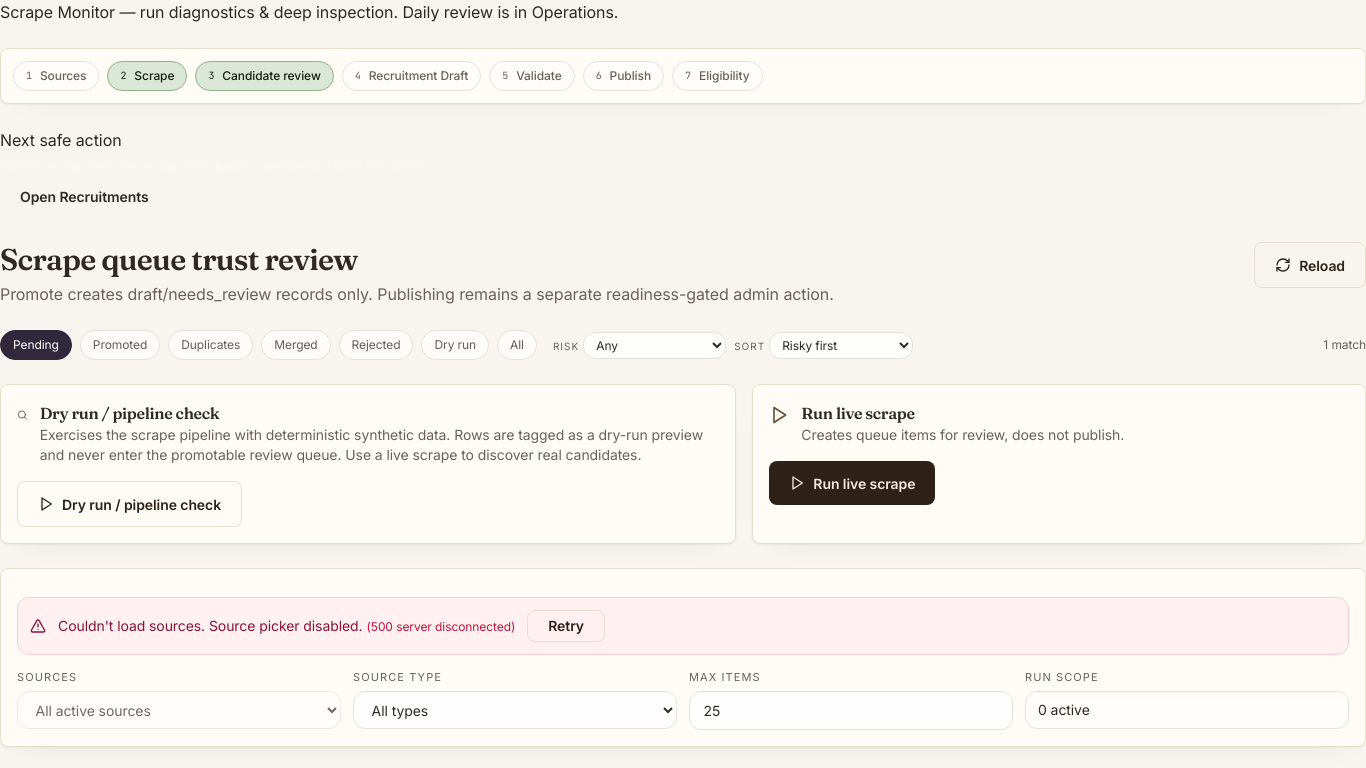
clicking sources Retry refires only /api/admin/sources
Expected: the message "Couldn't load sources. Source picker disabled.(500 server disconnected) Retry" is shown, [17, 597, 1349, 655]
Click the button with test id "scraper-sources-retry" at [566, 626], box [527, 610, 605, 642]
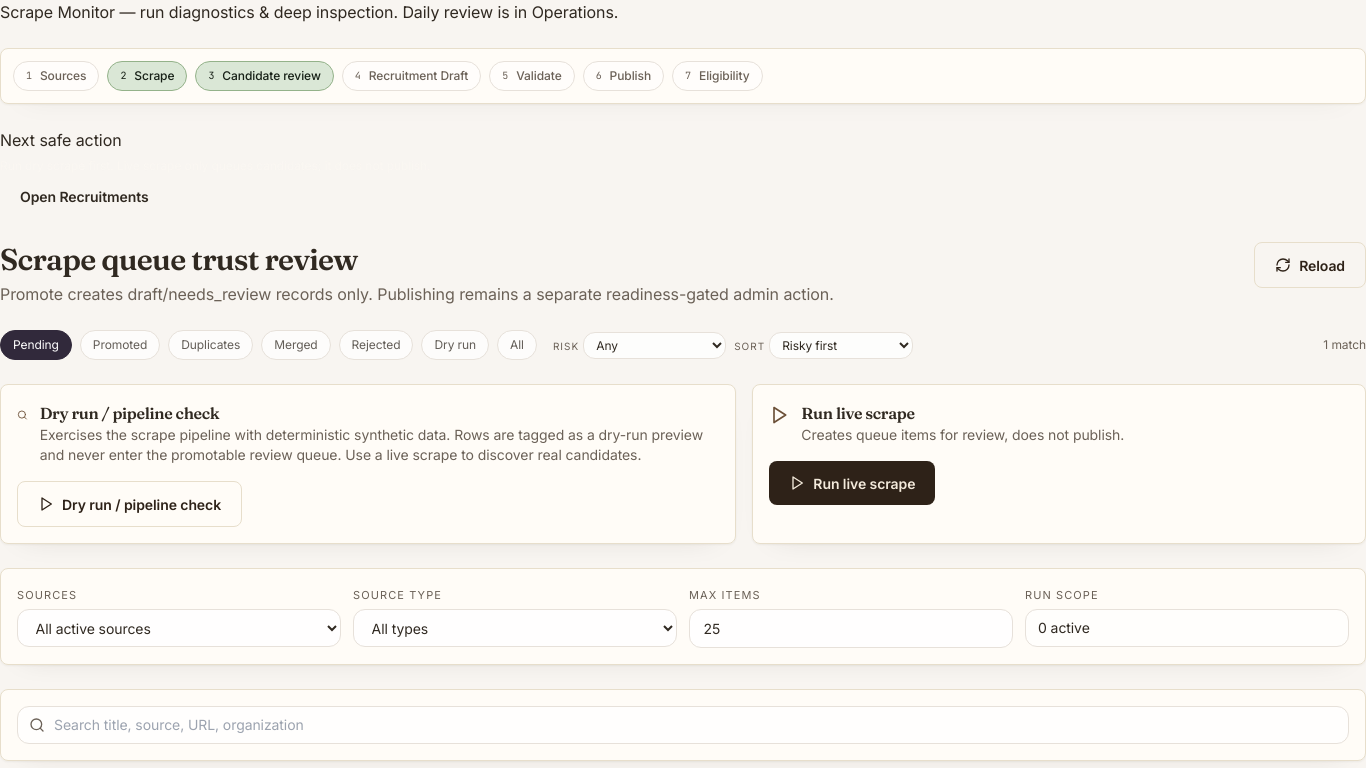
Now the message with test id "scraper-sources-error" is gone
